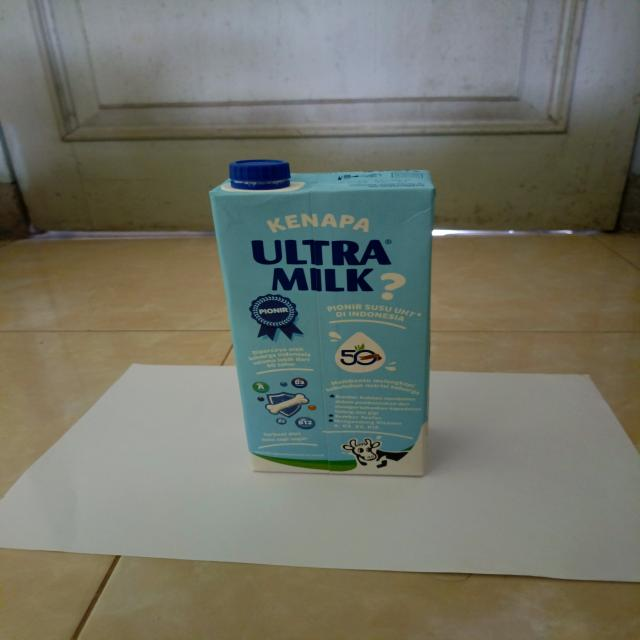indomie-mie-kocok-bandung: (209, 158, 435, 480)
